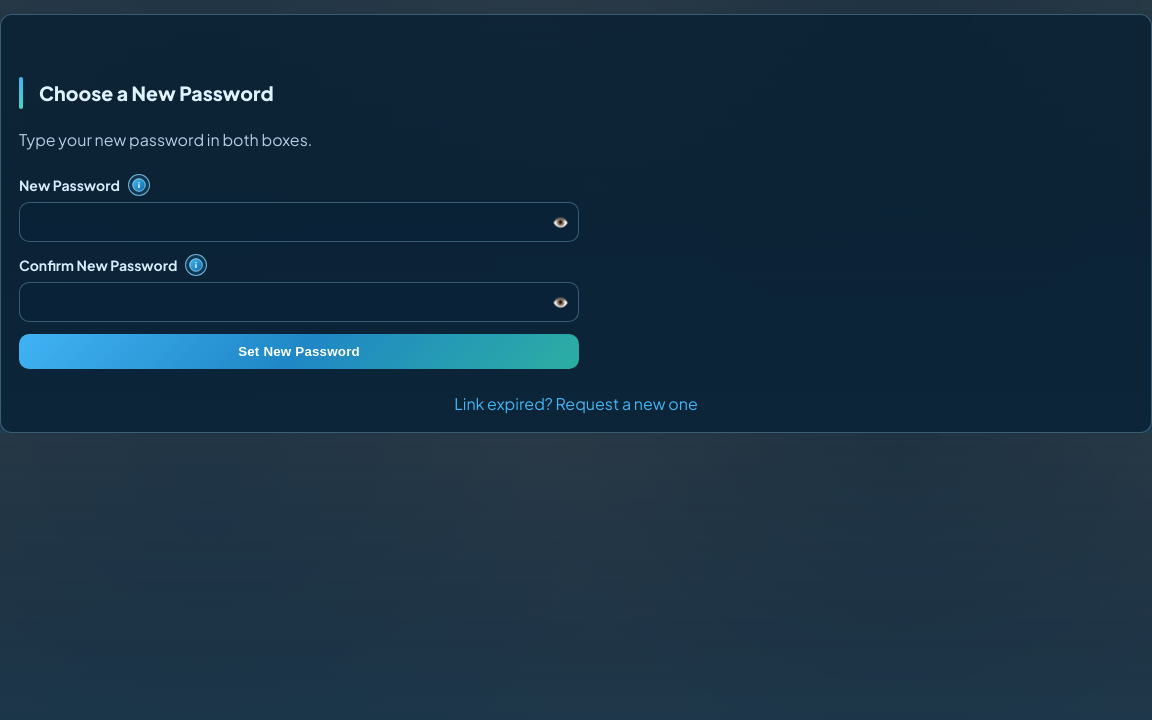
Test: ResetPasswordPage › shows the server's message for an expired or used link
Step 1. Type "BrandNew123" into the password field labelled "New Password" → (299, 222), box [19, 202, 579, 242]
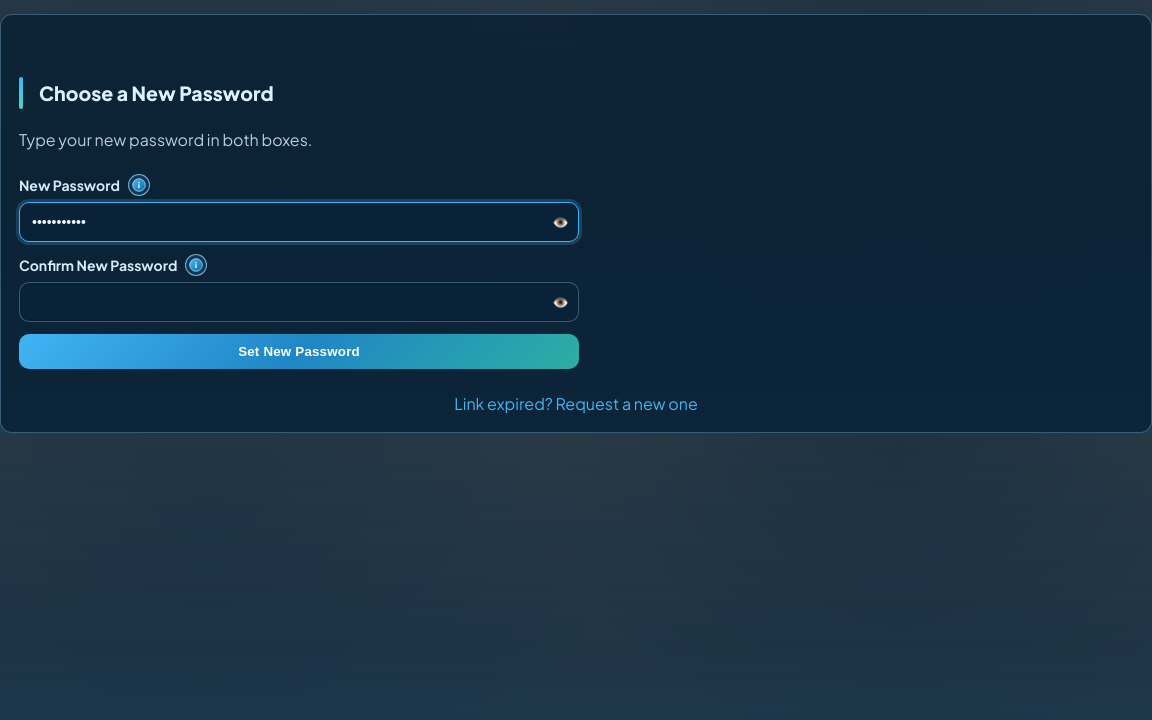
Step 2. Type "BrandNew123" into the password field labelled "Confirm New Password" → (299, 302), box [19, 282, 579, 322]
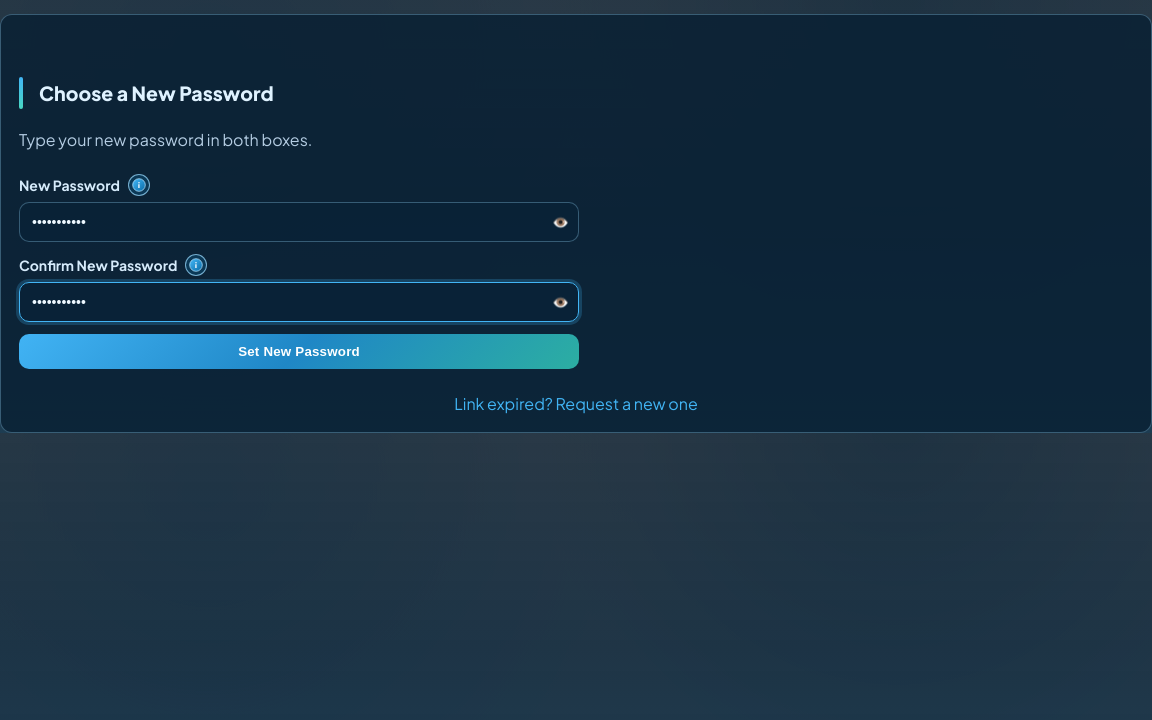
Step 3. Click the button "Set New Password" → (299, 352), box [19, 334, 579, 369]
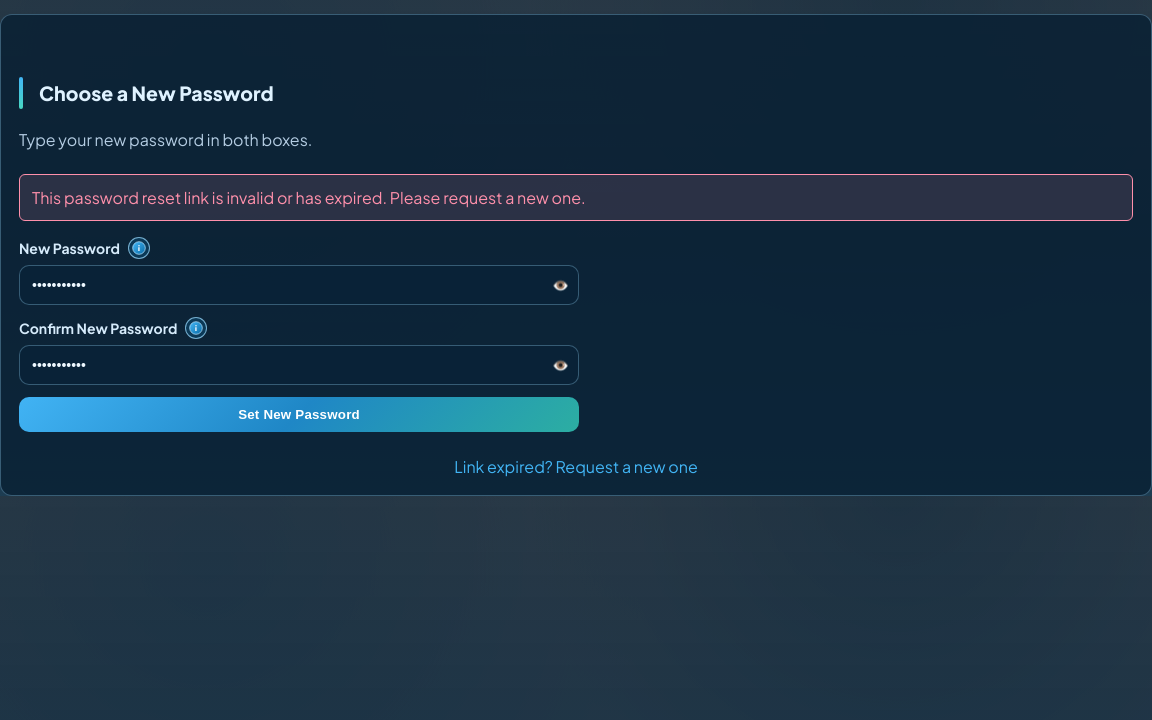
Expected: the text "invalid or has expired" is shown, [32, 187, 586, 208]
